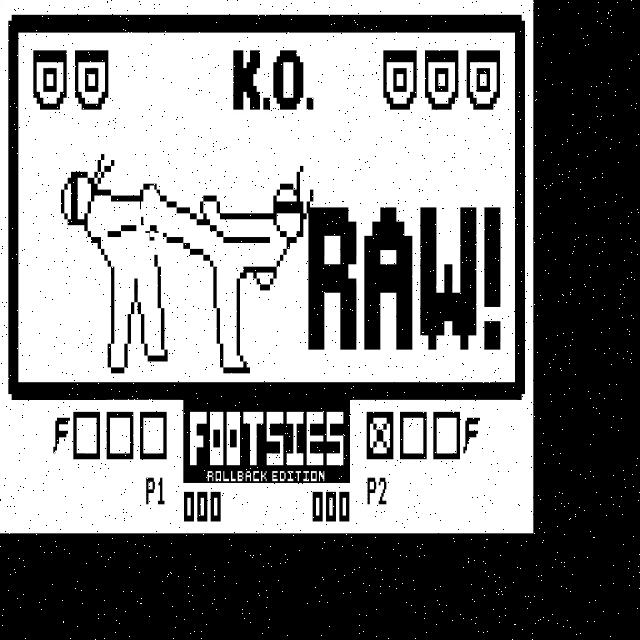Kick: (136, 160, 318, 376)
